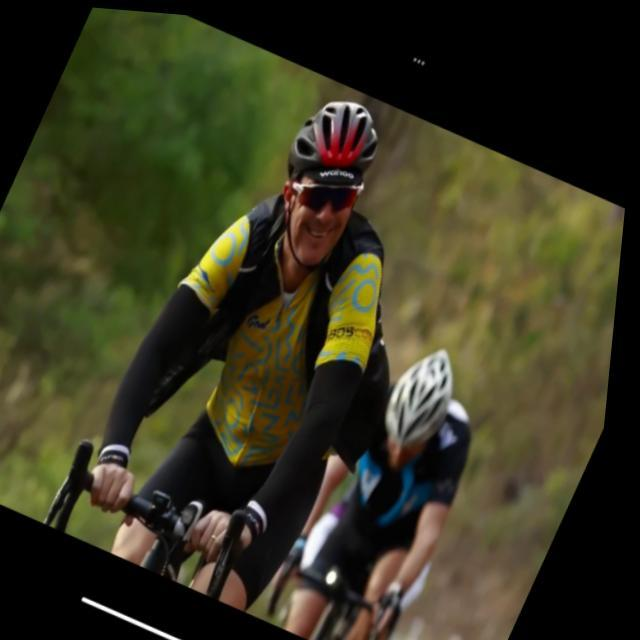Helmet: (265, 84, 380, 278)
